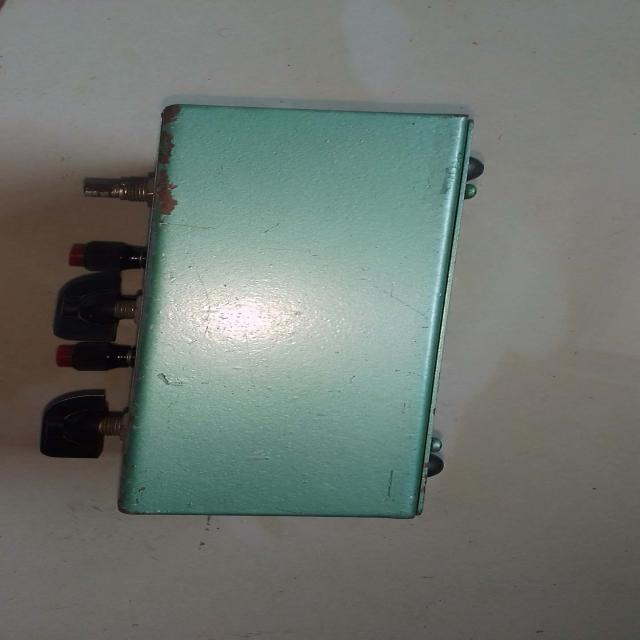Decade Resistance Box: (19, 71, 512, 532)
